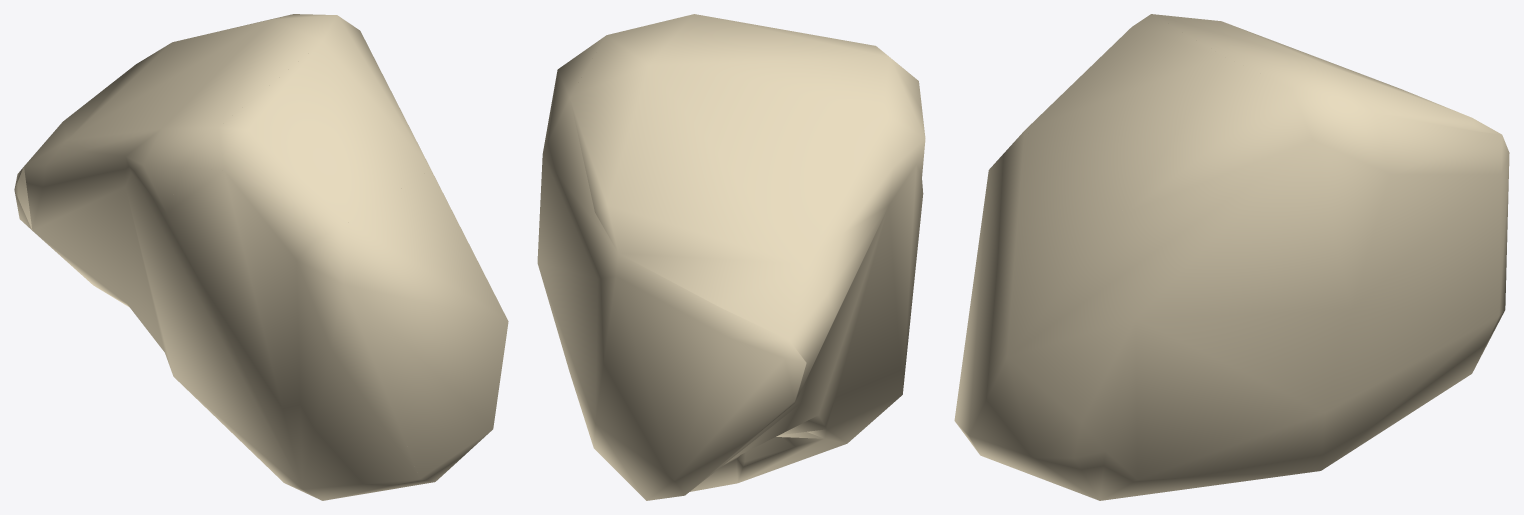
Rendered from esqueleto-triquetrum-bone-r.glb.
3 views of the same model, side by side, from view 1: azimuth 30°, elevation 25°; view 2: azimuth 150°, elevation 25°; view 3: azimuth 270°, elevation 25° (orthographic). The views are drawn at different scales.
Visible parts, largest first — view 1: Triquetrum bone.r; view 2: Triquetrum bone.r; view 3: Triquetrum bone.r.
Boxes of the visible parts, x1=… form: Triquetrum bone.r: x1=14, y1=14, x2=508, y2=500; Triquetrum bone.r: x1=537, y1=14, x2=925, y2=500; Triquetrum bone.r: x1=954, y1=14, x2=1509, y2=500.
Bounding box in the file's own units: 0.0111 × 0.0143 × 0.0159.
